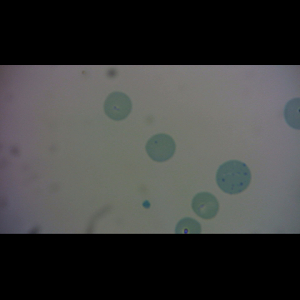erythrocyte: (102, 91, 133, 122), (191, 191, 220, 220)
punctate reticulocyte: (216, 160, 251, 194), (145, 133, 176, 163)
